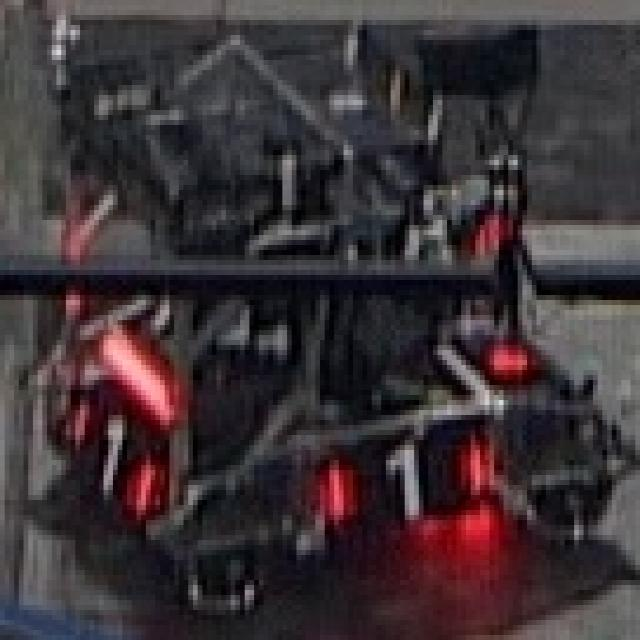R1: (315, 430, 485, 520), (61, 390, 155, 520)
